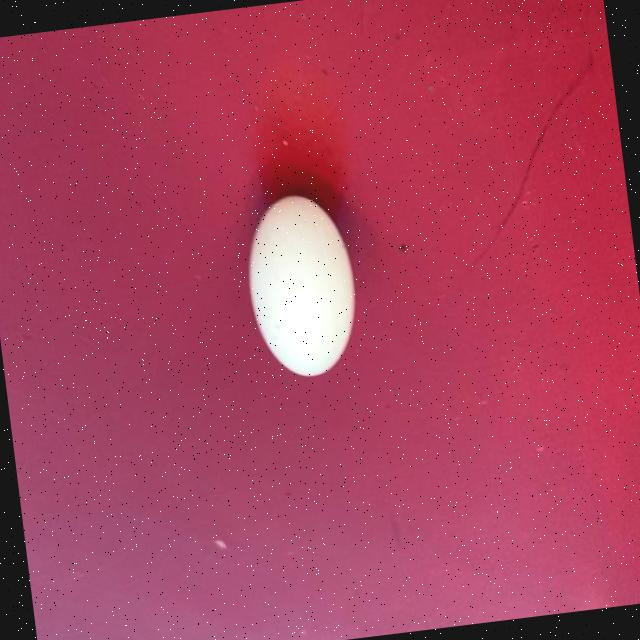ping-pong-ball: (230, 171, 378, 404)
